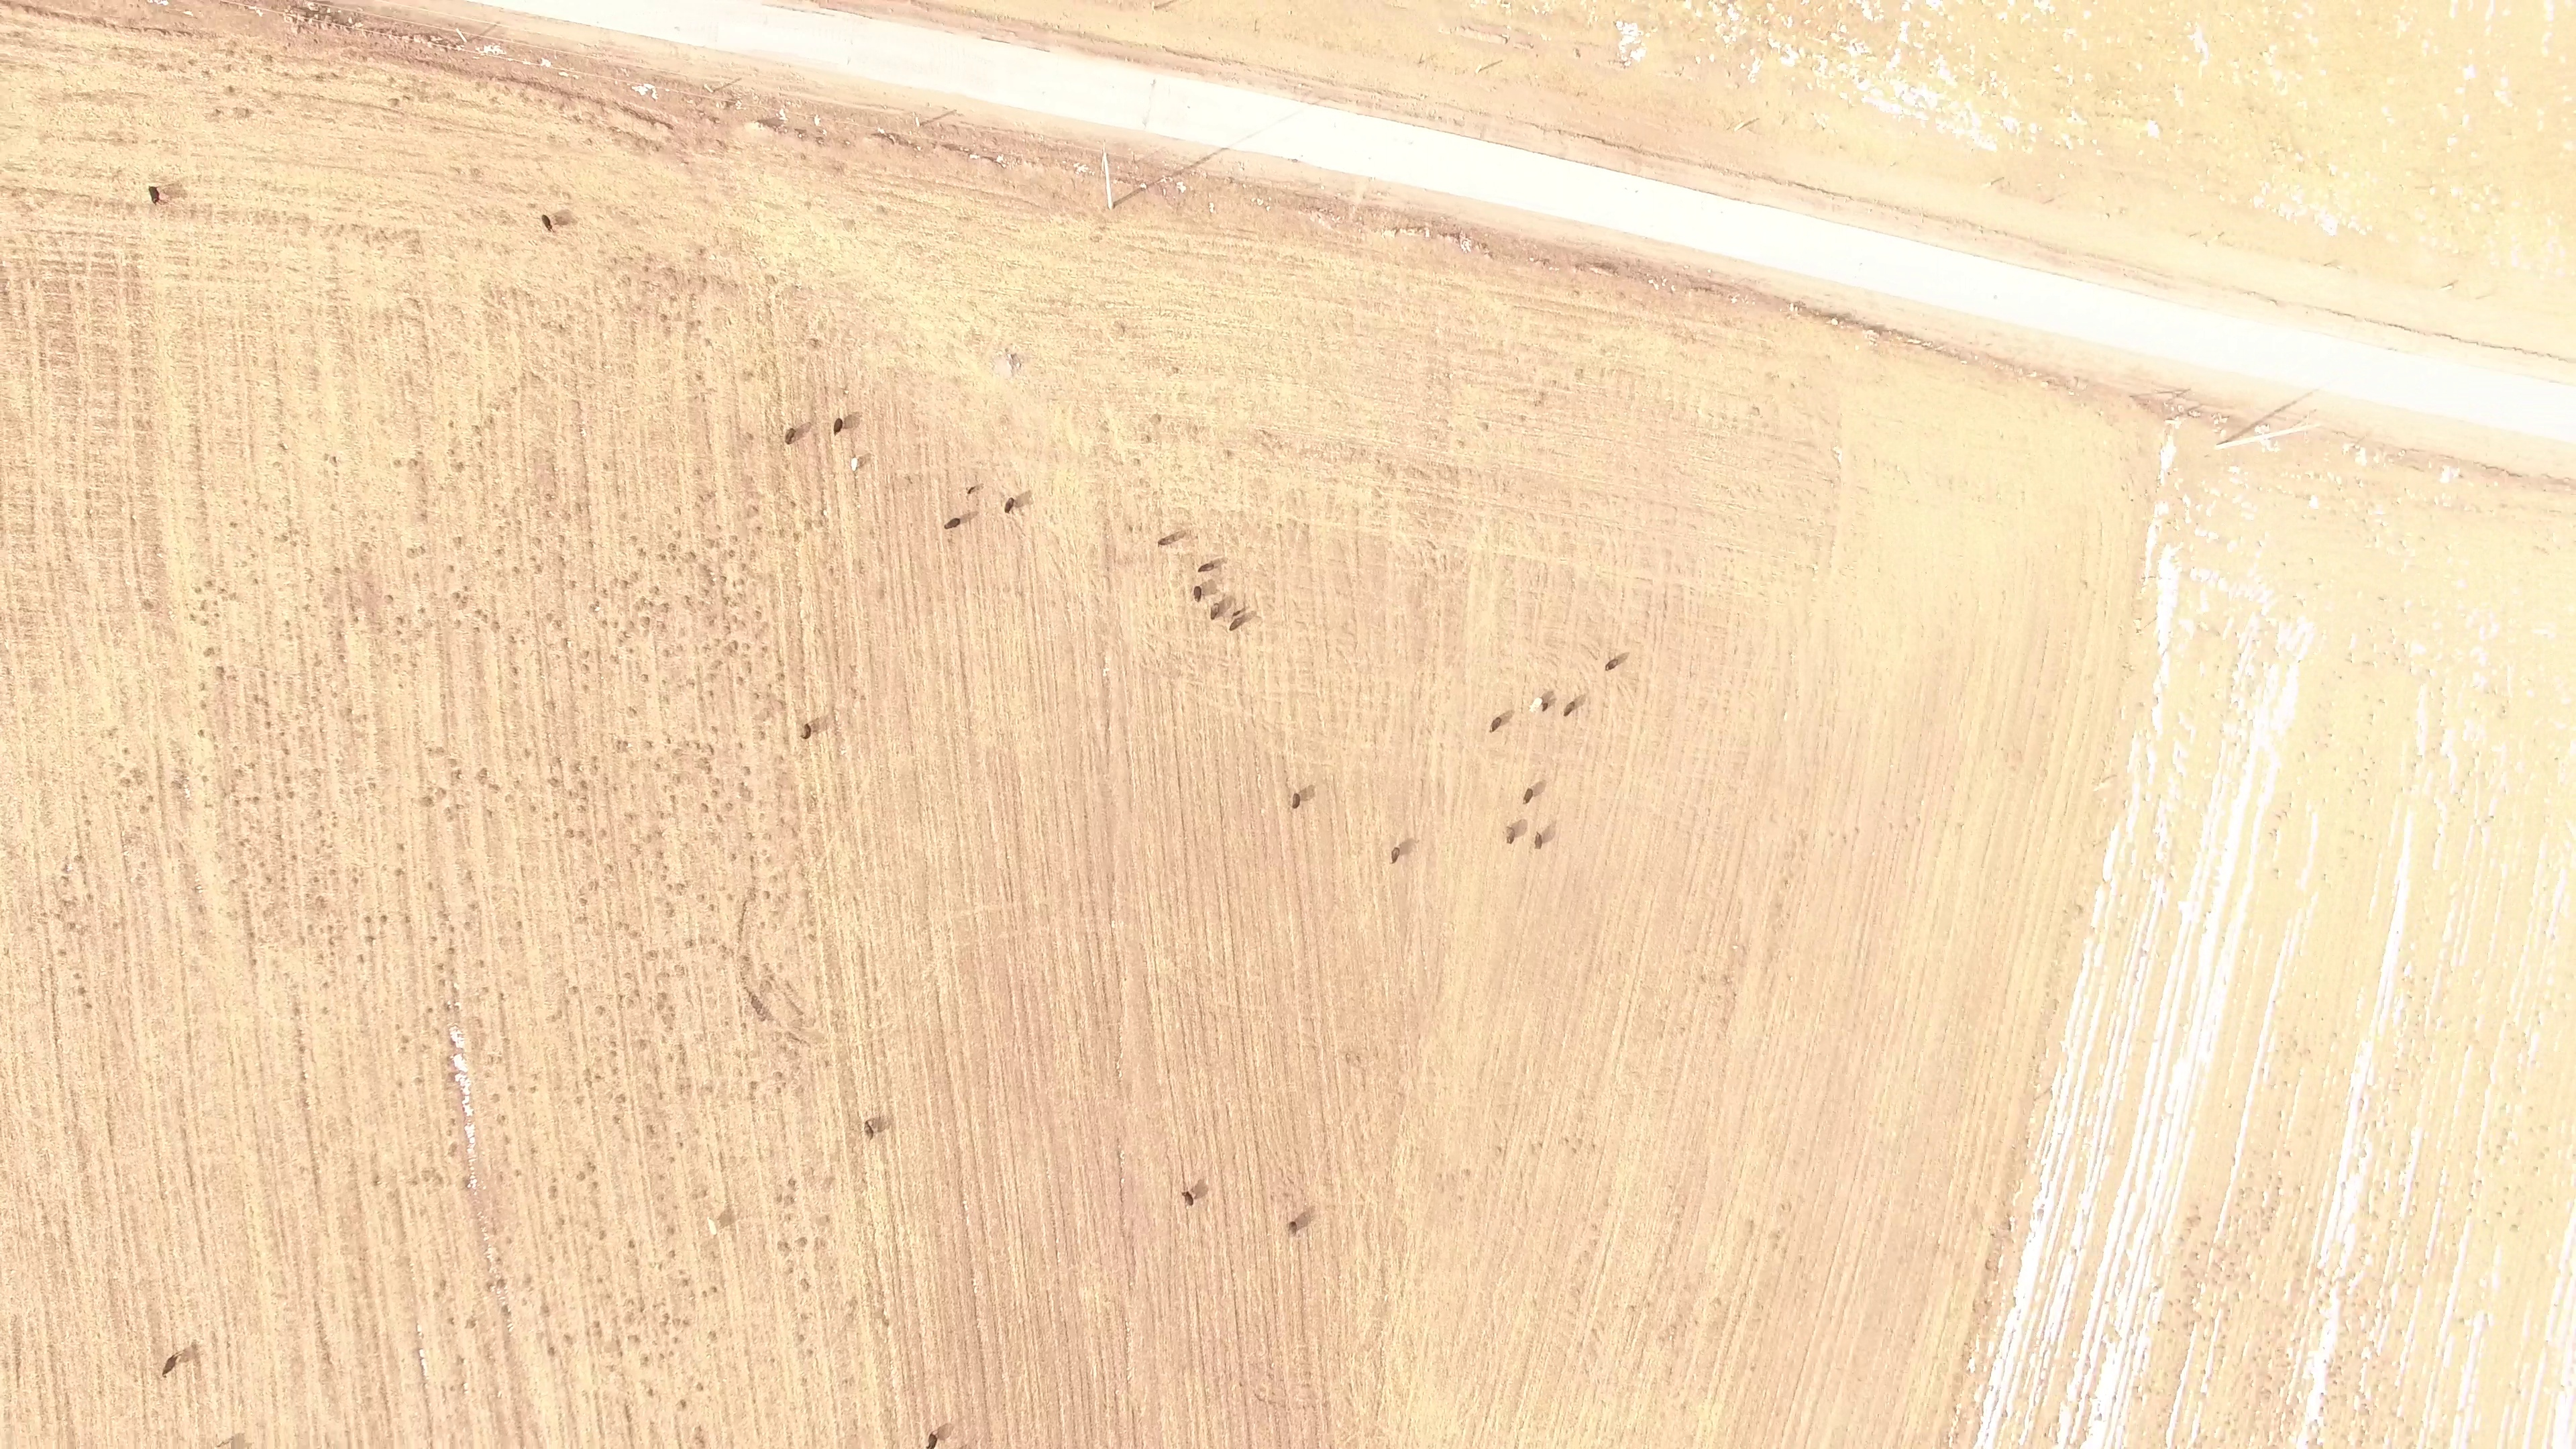sheep: (160, 1352, 180, 1377), (146, 183, 166, 208), (1560, 698, 1580, 720), (1179, 1187, 1198, 1209), (859, 1120, 879, 1141), (1388, 844, 1405, 866), (538, 211, 555, 234), (941, 516, 965, 532), (798, 722, 816, 743), (1488, 714, 1505, 734), (1226, 616, 1247, 633), (1207, 602, 1224, 623), (1001, 495, 1018, 517), (830, 417, 847, 437), (1532, 829, 1548, 852), (923, 1430, 942, 1449), (1289, 790, 1304, 812), (1520, 784, 1536, 806), (1190, 582, 1207, 604), (782, 426, 798, 447), (1195, 561, 1217, 576), (1603, 657, 1623, 673), (1503, 824, 1519, 845), (1529, 693, 1544, 715), (1285, 1218, 1301, 1237), (847, 456, 864, 474), (1540, 700, 1550, 715), (1231, 609, 1241, 620)
unknown: (745, 988, 771, 1023), (177, 1340, 203, 1368), (1860, 320, 1891, 340), (443, 1052, 469, 1074), (893, 131, 920, 152), (1590, 258, 1621, 276), (716, 1205, 737, 1230), (755, 114, 784, 131), (2239, 418, 2263, 437), (551, 208, 575, 229), (162, 184, 189, 201), (1434, 227, 1464, 243), (632, 111, 659, 127), (700, 562, 716, 587), (1690, 278, 1717, 295), (522, 78, 549, 94), (1116, 52, 1144, 66), (1155, 533, 1180, 549), (1110, 193, 1131, 209), (1126, 184, 1148, 200), (228, 1434, 248, 1449), (553, 84, 571, 99), (591, 1318, 605, 1339), (446, 1029, 460, 1051), (1714, 280, 1736, 293), (389, 27, 411, 40), (1772, 294, 1792, 308), (621, 1402, 634, 1422), (941, 141, 963, 154), (445, 1069, 460, 1085), (201, 645, 217, 659), (498, 1302, 514, 1320), (140, 598, 157, 612), (1572, 260, 1590, 272), (494, 1275, 508, 1291), (578, 777, 590, 792), (1756, 292, 1770, 305), (660, 1311, 672, 1328), (706, 1219, 719, 1237), (370, 1171, 382, 1189), (614, 737, 631, 750), (215, 663, 227, 681), (539, 1303, 552, 1316), (1982, 1260, 1995, 1275), (785, 1176, 799, 1191), (75, 984, 88, 998), (363, 932, 377, 946), (421, 794, 436, 809), (172, 778, 186, 792), (1150, 411, 1165, 425), (722, 98, 736, 111), (421, 30, 435, 45), (677, 1397, 690, 1411), (545, 1344, 558, 1359), (626, 1237, 638, 1252), (2185, 1213, 2202, 1226), (462, 1103, 475, 1118), (440, 1000, 453, 1015), (966, 482, 983, 496), (2552, 476, 2567, 488), (1935, 347, 1951, 359), (1170, 167, 1185, 179), (794, 125, 810, 138), (507, 74, 523, 87), (449, 38, 465, 51), (30, 5, 46, 18), (694, 1381, 706, 1394), (631, 1332, 643, 1346), (466, 1317, 478, 1330), (1982, 1299, 1994, 1313), (483, 1279, 496, 1291), (437, 1277, 449, 1291), (596, 1228, 608, 1242), (664, 1224, 678, 1237), (2000, 1218, 2013, 1230), (460, 1175, 473, 1189), (577, 1169, 588, 1183), (747, 1078, 759, 1092), (659, 989, 670, 1004), (248, 956, 260, 969), (362, 914, 374, 926), (378, 912, 390, 926), (578, 896, 590, 907), (394, 865, 407, 879), (478, 765, 490, 778), (447, 755, 460, 769), (204, 578, 216, 590), (418, 510, 430, 523), (453, 462, 466, 475), (2129, 392, 2142, 404), (1894, 328, 1907, 339), (664, 264, 677, 276), (874, 129, 889, 142), (747, 120, 761, 132), (636, 85, 649, 98), (1186, 50, 1199, 62), (89, 15, 104, 27), (696, 1436, 708, 1447), (563, 1332, 574, 1345), (795, 1332, 807, 1344), (680, 1276, 692, 1289), (773, 1193, 786, 1205), (590, 1179, 601, 1190), (409, 1177, 421, 1188), (296, 1043, 308, 1057), (400, 1034, 412, 1046), (290, 1004, 303, 1017), (654, 999, 667, 1012), (740, 953, 753, 965), (514, 918, 525, 930), (395, 841, 407, 853), (285, 789, 297, 801), (549, 776, 561, 790), (280, 745, 291, 757), (197, 601, 208, 614), (451, 589, 464, 602), (331, 564, 343, 576), (533, 562, 544, 574), (280, 533, 291, 544), (694, 372, 705, 384), (658, 311, 670, 323), (1485, 248, 1496, 260), (1479, 239, 1491, 252), (1599, 136, 1612, 148), (663, 120, 676, 133), (225, 83, 237, 96), (158, 25, 170, 38), (21, 2, 33, 15), (645, 1386, 656, 1399), (797, 1234, 810, 1246), (449, 1141, 460, 1155), (631, 986, 643, 1000), (193, 441, 203, 454), (1008, 351, 1019, 365), (1687, 276, 1701, 286), (1413, 223, 1428, 233), (1309, 203, 1323, 214), (242, 106, 254, 120), (48, 9, 62, 20), (641, 1354, 651, 1365), (323, 1352, 333, 1364), (501, 1337, 512, 1349), (879, 1318, 892, 1329), (445, 1315, 455, 1326), (524, 1275, 535, 1286), (557, 1216, 568, 1228), (700, 1187, 710, 1199), (303, 1124, 313, 1135), (773, 1085, 784, 1096), (583, 1065, 593, 1077), (455, 1038, 467, 1050), (637, 1036, 647, 1049), (83, 1000, 95, 1012), (767, 972, 777, 983), (646, 949, 657, 960), (247, 929, 258, 942), (447, 924, 458, 935), (2076, 904, 2086, 916), (195, 903, 206, 915), (468, 901, 478, 912), (350, 874, 361, 886), (75, 853, 85, 865), (236, 838, 247, 849), (655, 828, 665, 840), (232, 797, 242, 808), (250, 794, 262, 806), (489, 782, 501, 793), (743, 764, 753, 777), (572, 763, 582, 774), (704, 763, 714, 775), (436, 745, 447, 756), (709, 724, 720, 735), (343, 705, 355, 717), (251, 692, 262, 704), (336, 651, 347, 663), (731, 639, 741, 651), (334, 628, 345, 641), (659, 622, 669, 633), (201, 617, 212, 628), (641, 614, 653, 625), (473, 606, 485, 617), (621, 578, 631, 588), (688, 549, 699, 562), (637, 549, 649, 559), (228, 520, 240, 531), (804, 519, 814, 530), (487, 416, 497, 427), (2182, 406, 2192, 417), (2138, 399, 2150, 410), (1922, 343, 1934, 354), (811, 336, 821, 348), (1540, 256, 1553, 266), (696, 246, 707, 258), (411, 236, 423, 246), (18, 184, 30, 195), (986, 154, 998, 164), (965, 148, 976, 158), (812, 115, 822, 127), (707, 114, 719, 125), (158, 62, 169, 73), (481, 44, 494, 56), (435, 37, 448, 48), (464, 35, 476, 46), (376, 25, 388, 36), (517, 1438, 527, 1449), (625, 1422, 635, 1434), (2052, 1415, 2062, 1426), (2072, 1405, 2082, 1415), (612, 1336, 623, 1347), (2181, 1320, 2192, 1331), (786, 1265, 796, 1276), (780, 1239, 791, 1250), (548, 1185, 559, 1196), (311, 1175, 321, 1186), (435, 1174, 445, 1185), (588, 1163, 599, 1173), (1575, 1136, 1585, 1146), (107, 1136, 117, 1146), (467, 1135, 478, 1146), (178, 1126, 188, 1136), (646, 1122, 656, 1133), (611, 1114, 622, 1125), (301, 1099, 311, 1110), (462, 1094, 472, 1104), (461, 1085, 471, 1095), (506, 1083, 517, 1094), (297, 1072, 309, 1083), (54, 1071, 64, 1081), (822, 1058, 832, 1068), (609, 1048, 619, 1059), (795, 1008, 806, 1018), (425, 1005, 435, 1016), (665, 1004, 676, 1014), (449, 985, 460, 996), (570, 983, 581, 994), (321, 980, 331, 991), (763, 978, 773, 988), (72, 972, 83, 982), (435, 962, 446, 973), (445, 945, 457, 955), (736, 924, 746, 934), (325, 922, 335, 933), (623, 921, 633, 932), (402, 916, 412, 926), (737, 916, 747, 926), (580, 914, 590, 924), (440, 911, 451, 922), (667, 906, 677, 916), (317, 896, 327, 906), (802, 890, 812, 900), (762, 888, 773, 898), (425, 879, 435, 890), (264, 875, 274, 885), (464, 873, 475, 883), (327, 867, 338, 877), (180, 861, 191, 871), (257, 860, 267, 870), (747, 853, 757, 863), (288, 852, 300, 863), (274, 832, 284, 842), (790, 829, 800, 840), (551, 812, 561, 822), (485, 808, 495, 818), (138, 803, 148, 813), (700, 802, 710, 812), (145, 793, 156, 804), (273, 792, 283, 803), (439, 787, 449, 798), (123, 776, 133, 787), (523, 749, 533, 759), (121, 746, 131, 757), (197, 728, 207, 739), (263, 718, 274, 729), (198, 700, 209, 712), (696, 694, 706, 704), (706, 689, 716, 699), (510, 665, 521, 676), (582, 663, 592, 674), (724, 644, 736, 655), (560, 635, 571, 645), (376, 625, 386, 635), (554, 620, 564, 631), (706, 618, 717, 628), (600, 617, 610, 627), (396, 615, 407, 626), (480, 611, 490, 622), (418, 606, 428, 616), (347, 602, 358, 612), (193, 586, 203, 596), (511, 564, 523, 576), (739, 561, 749, 571), (556, 554, 566, 565), (658, 552, 669, 563), (494, 546, 504, 557), (418, 545, 429, 556), (455, 535, 465, 545), (792, 533, 802, 543), (629, 533, 639, 543), (1126, 524, 1136, 534), (574, 501, 584, 511), (411, 458, 421, 469), (329, 453, 339, 464), (1224, 448, 1235, 459), (1144, 434, 1155, 444), (2229, 432, 2239, 442), (746, 432, 757, 443), (472, 423, 482, 433), (446, 419, 456, 430), (509, 384, 520, 394), (1998, 358, 2010, 368), (411, 297, 421, 308), (509, 288, 520, 300), (1, 288, 11, 299), (700, 276, 710, 287), (641, 263, 651, 275), (188, 207, 198, 217), (1364, 205, 1375, 215), (91, 198, 102, 209), (8, 189, 19, 201), (1199, 154, 1210, 164), (995, 154, 1005, 164), (1625, 143, 1637, 154), (813, 133, 824, 144), (213, 107, 223, 118), (621, 105, 632, 115), (557, 101, 568, 111), (392, 96, 402, 107), (84, 91, 94, 101), (650, 75, 660, 85), (202, 68, 212, 78), (186, 57, 196, 67), (1199, 53, 1210, 63), (1106, 50, 1117, 60), (289, 25, 299, 36), (351, 15, 361, 25), (289, 15, 300, 25), (66, 13, 78, 23), (975, 11, 985, 21), (496, 990, 506, 1003), (438, 976, 448, 988), (721, 596, 731, 608), (447, 563, 457, 574), (707, 539, 717, 549), (2509, 470, 2520, 480), (688, 319, 698, 330), (1030, 22, 1042, 32), (513, 1409, 523, 1419), (1959, 1351, 1969, 1361), (223, 1340, 233, 1350), (709, 1330, 719, 1340), (2457, 1316, 2467, 1326), (637, 1303, 647, 1313), (431, 1289, 442, 1299), (710, 1285, 720, 1295), (594, 1275, 606, 1285), (40, 1212, 50, 1222), (788, 1195, 798, 1205), (667, 1155, 678, 1165), (619, 1093, 629, 1105), (775, 1070, 786, 1080), (399, 1044, 409, 1054), (319, 1006, 329, 1016), (598, 1004, 608, 1014), (477, 958, 487, 968), (325, 937, 335, 947), (430, 934, 440, 944), (111, 920, 121, 930), (463, 919, 473, 929), (85, 892, 95, 903), (311, 874, 321, 885), (60, 865, 70, 875), (229, 785, 239, 795), (674, 773, 684, 784), (454, 767, 464, 777), (590, 753, 600, 763), (105, 729, 115, 739), (641, 672, 651, 682), (258, 670, 268, 680), (493, 622, 503, 632), (282, 619, 292, 629), (460, 594, 470, 604), (702, 586, 712, 596), (669, 541, 679, 551), (290, 539, 300, 549), (971, 508, 981, 519), (788, 499, 798, 509), (83, 489, 93, 500), (276, 440, 286, 450), (2224, 413, 2235, 423), (2173, 390, 2184, 400), (663, 327, 674, 337), (74, 280, 84, 290), (1462, 231, 1472, 241), (1432, 219, 1442, 229), (527, 201, 538, 211), (1104, 184, 1114, 195), (1179, 183, 1189, 193), (168, 180, 178, 190), (653, 144, 663, 154), (543, 60, 553, 70), (422, 58, 432, 68), (472, 33, 482, 43), (431, 30, 441, 40), (1074, 30, 1084, 40), (125, 15, 135, 27), (1, 7, 9, 18), (1150, 3, 1161, 13), (3, 1, 14, 9), (13, 1360, 23, 1370), (316, 951, 326, 961), (452, 801, 462, 811), (79, 792, 89, 802), (313, 72, 323, 82), (908, 1, 920, 6), (160, 1, 170, 7), (1, 1, 5, 6)
